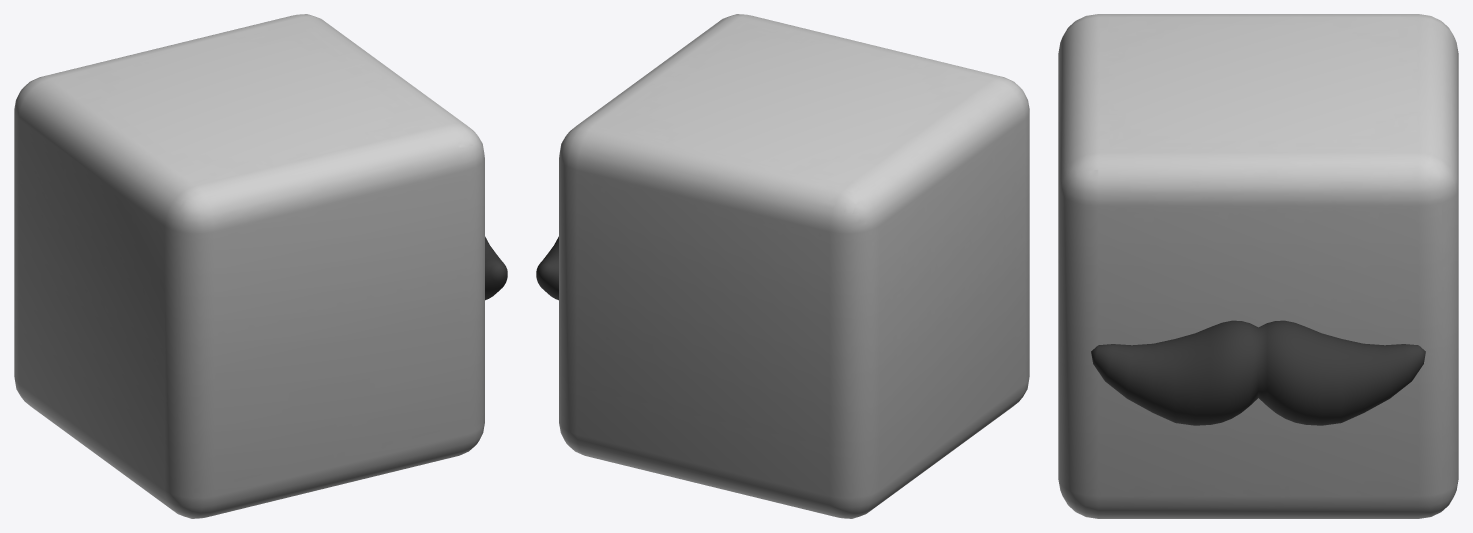
File: cube_moustache.glb
3 views of the same model, side by side, from view 1: azimuth 30°, elevation 25°; view 2: azimuth 150°, elevation 25°; view 3: azimuth 270°, elevation 25° (orthographic). The views are drawn at different scales.
Visible parts, largest first — view 1: cube_moustache; view 2: cube_moustache; view 3: cube_moustache.
Boxes of the visible parts, <box> form: cube_moustache: <box>14,14,507,518</box>; cube_moustache: <box>536,14,1029,518</box>; cube_moustache: <box>1058,14,1458,518</box>.
Bounding box in the file's own units: 2.36 × 2 × 2.
Materials: 2 (1 with a texture image).
